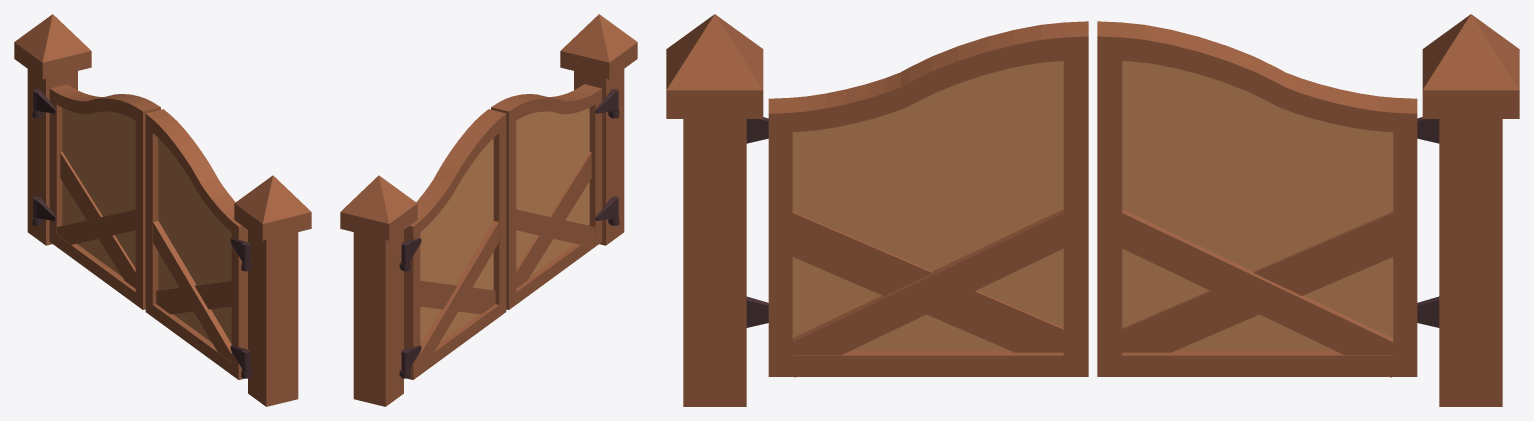
The model's file is Wood_gate.fbx.
The picture shows the model from 3 angles, left to right: view 1: azimuth 30°, elevation 25°; view 2: azimuth 150°, elevation 25°; view 3: azimuth 270°, elevation 25°; orthographic projection. The views are drawn at different scales.
Parts seen in each view (by area): view 1: Cube.004, Cube.002, Cube.003, Cube.001, Cylinder.002, Cylinder.001; view 2: Cube.002, Cube.004, Cube.001, Cube.003, Cylinder.001, Cylinder.002; view 3: Cube.002, Cube.004, Cube.001, Cube.003, Cylinder.002, Cylinder.001.
Part boxes in pixels (<box>): Cube.004: <box>145,109,247,379</box>; Cube.002: <box>49,84,160,309</box>; Cube.003: <box>234,175,311,406</box>; Cube.001: <box>14,14,91,245</box>; Cylinder.002: <box>33,89,56,220</box>; Cylinder.001: <box>230,238,250,372</box>; Cube.002: <box>404,109,506,379</box>; Cube.004: <box>491,84,602,309</box>; Cube.001: <box>340,175,417,406</box>; Cube.003: <box>560,14,637,245</box>; Cylinder.001: <box>595,89,618,220</box>; Cylinder.002: <box>401,238,421,372</box>; Cube.002: <box>1097,21,1417,377</box>; Cube.004: <box>768,21,1088,377</box>; Cube.001: <box>1422,14,1519,406</box>; Cube.003: <box>666,14,763,406</box>; Cylinder.002: <box>1417,117,1439,327</box>; Cylinder.001: <box>746,117,768,327</box>.
Size of the model in its own units: 249 by 1051 by 2141.
